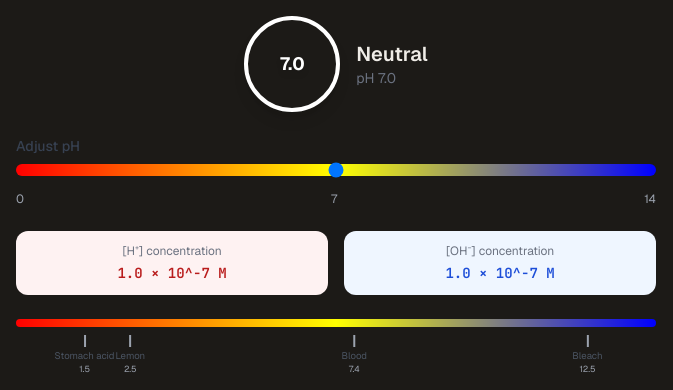
it: PHScale › shows basic label at high pH
The width and height of the screenshot is (673, 390).
Set the slider to "12" at (559,170), box [16, 164, 656, 176]
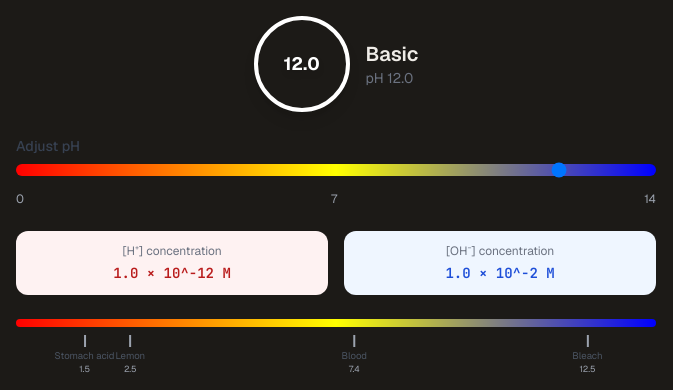
Now the text with test id "ph-label" reads "Basic", box [366, 41, 418, 67]
